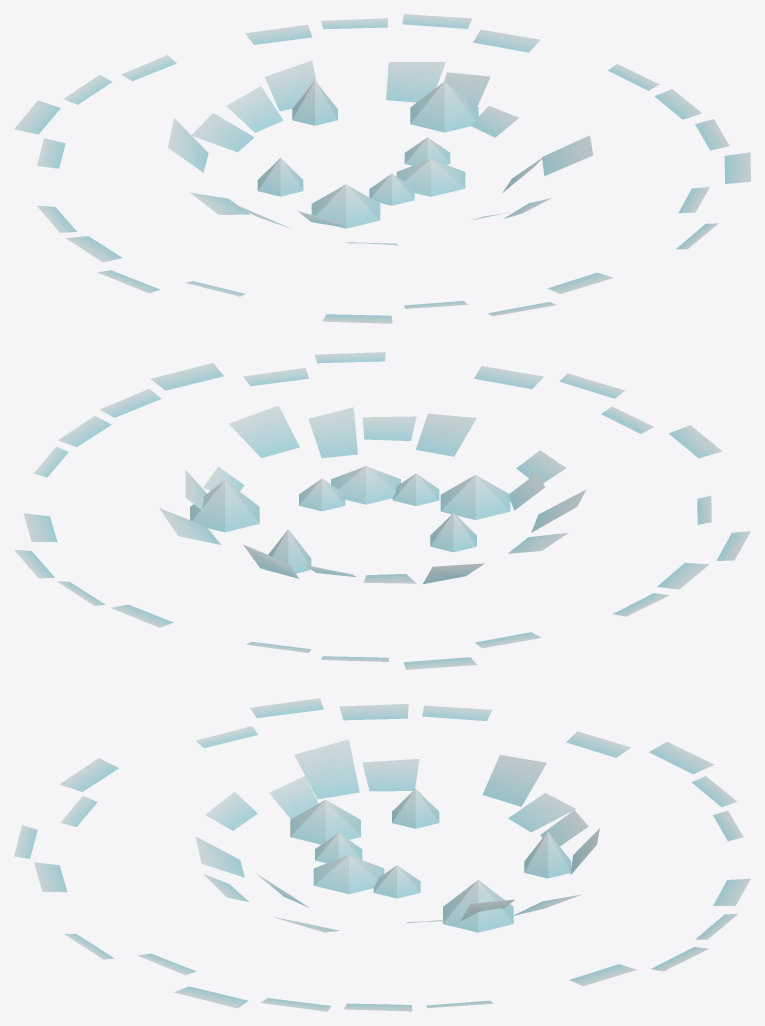
Rendered from GeyserSurfaceFoam.glb.
3 views of the same model, one above another, from view 1: azimuth 30°, elevation 25°; view 2: azimuth 150°, elevation 25°; view 3: azimuth 270°, elevation 25° (orthographic). The views are drawn at different scales.
Visible parts, largest first — view 1: GeyserSurfaceFoam; view 2: GeyserSurfaceFoam; view 3: GeyserSurfaceFoam.
Part boxes in pixels (x1,y1,x2,y2): GeyserSurfaceFoam: (14,14,750,323); GeyserSurfaceFoam: (14,352,750,669); GeyserSurfaceFoam: (14,698,750,1011).
Bounding box in the file's own units: 2.45 × 0.13 × 2.43.
